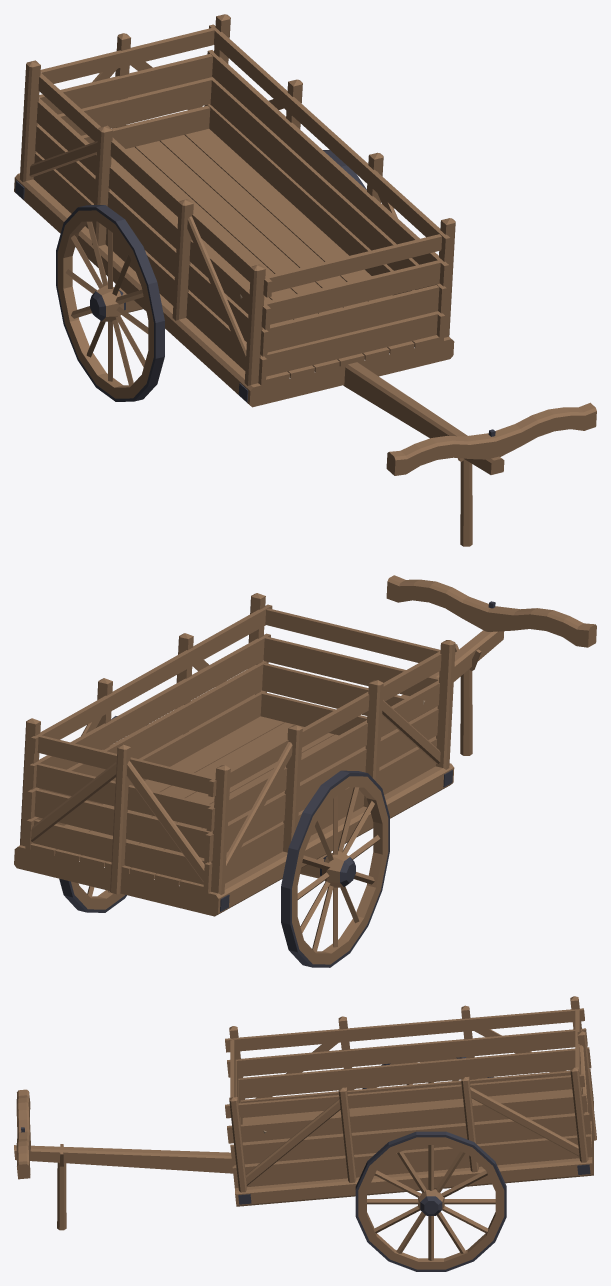
Rendered from carreta-caeccd.glb.
3 views of the same model, one above another, from view 1: azimuth 30°, elevation 25°; view 2: azimuth 150°, elevation 25°; view 3: azimuth 270°, elevation 25° (orthographic). The views are drawn at different scales.
Parts seen in each view (by area): view 1: carreta-body, wheel-r-mesh; view 2: carreta-body, wheel-r-mesh, wheel-l-mesh; view 3: carreta-body, wheel-l-mesh.
Boxes of the visible parts, x1,y1,x2,y2 form: carreta-body: (14, 14, 596, 546); wheel-r-mesh: (56, 205, 164, 401); carreta-body: (14, 575, 596, 916); wheel-r-mesh: (281, 770, 389, 967); wheel-l-mesh: (59, 716, 146, 912); carreta-body: (14, 996, 596, 1230); wheel-l-mesh: (355, 1131, 506, 1271).
Bounding box in the file's own units: 2.19 × 2.12 × 5.68.
